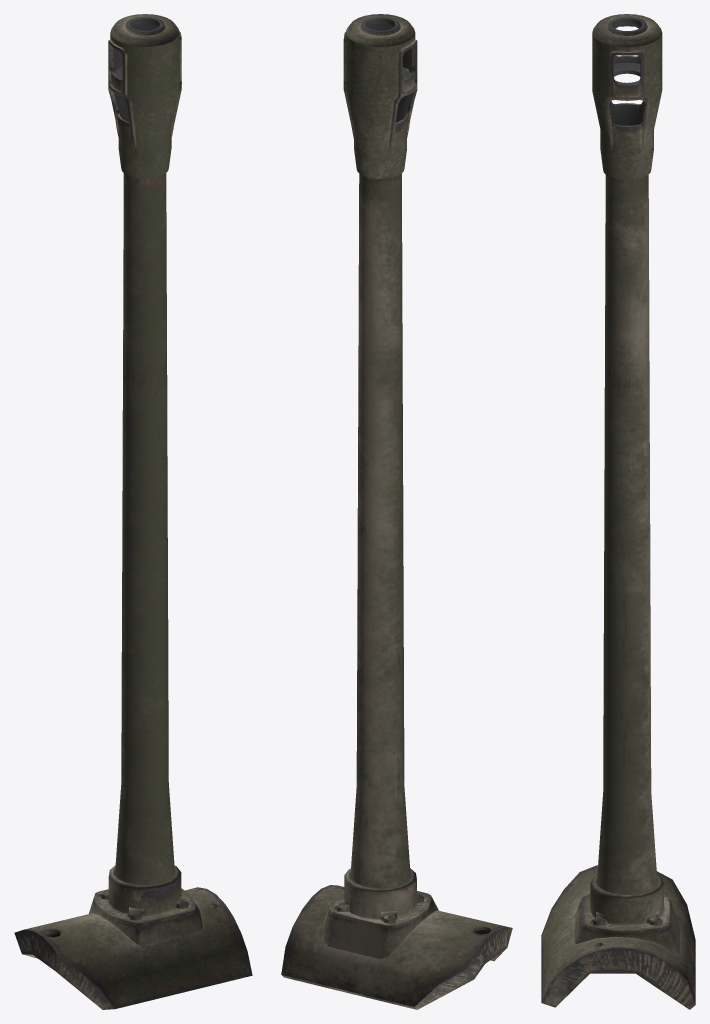
The model's file is Gun_01.glb.
3 renders of one model, left to right at view 1: azimuth 30°, elevation 25°; view 2: azimuth 150°, elevation 25°; view 3: azimuth 270°, elevation 25°, orthographic.
Visible parts, largest first — view 1: set_0_group_0; view 2: set_0_group_0; view 3: set_0_group_0.
Boxes of the visible parts, x1=… form: set_0_group_0: x1=14, y1=14, x2=252, y2=1009; set_0_group_0: x1=281, y1=14, x2=512, y2=1009; set_0_group_0: x1=541, y1=14, x2=695, y2=1009.
Size of the model in its own units: 0.8031 by 4.17 by 0.6119.
Materials: 1 (1 with a texture image).
